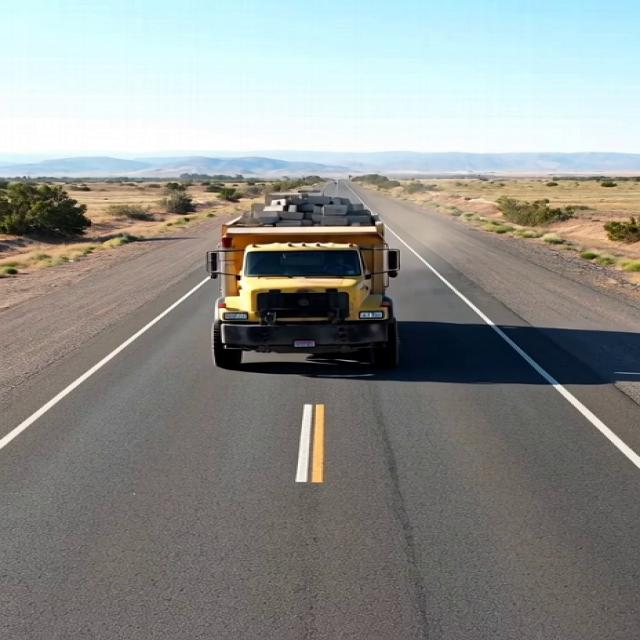Box: (214, 188, 403, 244)
Truck: (187, 177, 453, 368)
